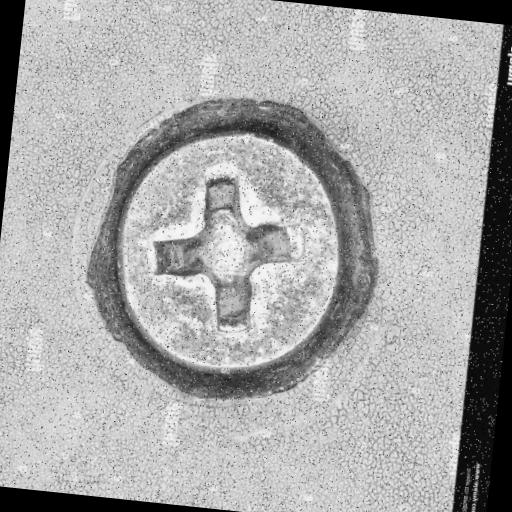Phillips: (100, 103, 366, 388)
